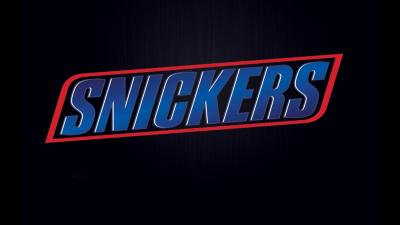snickers: (58, 59, 329, 135)
